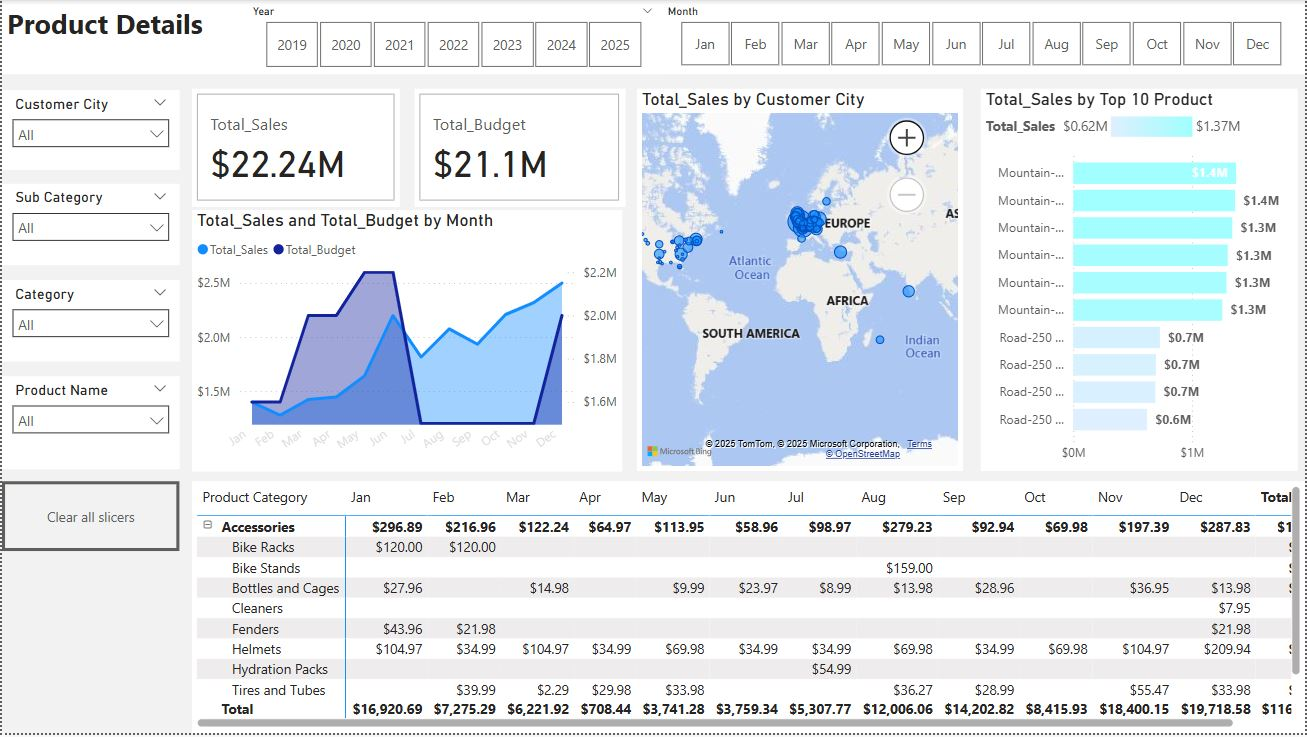

Layout of this report page (visuals, bound fields, positions):
{"tool":"powerbi","page":{"name":"Product Details","canvas":[1280,720],"ordinal":2},"visuals":[{"type":"textbox","box":[0,0,1280.3,72.8],"z":0},{"type":"slicer","fields":{"Values":["Dim_Customer.Customer City"]},"box":[-0.3,87.9,174.1,78.5],"z":1000},{"type":"slicer","fields":{"Values":["Dim_Product.Sub Category"]},"box":[-0.3,180.7,174.1,79.9],"z":2000},{"type":"slicer","fields":{"Values":["Dim_Product.Product Category"]},"box":[-0.3,274.9,174.1,79.9],"z":3000},{"type":"slicer","fields":{"Values":["Dim_Product.Product Name"]},"box":[0,368.8,174.1,91.3],"z":4000},{"type":"slicer","fields":{"Values":["Dim_Calendar.Year"]},"box":[232.7,0,418.2,72.8],"z":5000},{"type":"slicer","fields":{"Values":["Dim_Calendar.Month_Short"]},"box":[640.9,0,639.4,71.4],"z":6000},{"type":"lineChart","fields":{"Y":["Fact_InternetSales.Total_Sales"],"Y2":["Fact_Budget.Total_Budget"],"Category":["Dim_Calendar.Month_Short"]},"box":[187,205.5,422.5,256.9],"z":7000},{"type":"map","fields":{"Category":["Dim_Customer.Customer City"],"Size":["Fact_InternetSales.Total_Sales"]},"box":[623.7,87.1,319.7,375.4],"z":8000},{"type":"cardVisual","fields":{"Data":["Fact_InternetSales.Total_Sales"]},"box":[187,87.1,204.1,115.6],"z":9000},{"type":"cardVisual","fields":{"Data":["Fact_Budget.Total_Budget"]},"box":[405.4,87.1,207,115.6],"z":10000},{"type":"pivotTable","fields":{"Columns":["Dim_Calendar.Month_Short"],"Values":["Fact_InternetSales.Total_Sales"],"Rows":["Dim_Product.Product Category","Dim_Product.Sub Category"]},"box":[187,472.4,1093.3,246.9],"z":11000},{"type":"barChart","fields":{"Y":["Fact_InternetSales.Total_Sales"],"Category":["Dim_Product.Product Name"]},"box":[960.6,87.1,311.2,375.4],"z":12000},{"type":"actionButton","box":[0,472.4,174.1,68.5],"z":13000}]}

Visuals, with their boxes in screenshot pixels (x1, y1, x2, y2), scaled from the page's 1280x720 canvas onto the 1307x737 screenshot:
textbox: [x1=0, y1=0, x2=1306, y2=75]
slicer - Dim_Customer.Customer City: [x1=0, y1=90, x2=177, y2=170]
slicer - Dim_Product.Sub Category: [x1=0, y1=185, x2=177, y2=267]
slicer - Dim_Product.Product Category: [x1=0, y1=281, x2=177, y2=363]
slicer - Dim_Product.Product Name: [x1=0, y1=378, x2=178, y2=471]
slicer - Dim_Calendar.Year: [x1=238, y1=0, x2=665, y2=75]
slicer - Dim_Calendar.Month_Short: [x1=654, y1=0, x2=1306, y2=73]
lineChart - Fact_InternetSales.Total_Sales x Fact_Budget.Total_Budget: [x1=191, y1=210, x2=622, y2=473]
map - Dim_Customer.Customer City x Fact_InternetSales.Total_Sales: [x1=637, y1=89, x2=963, y2=473]
cardVisual - Fact_InternetSales.Total_Sales: [x1=191, y1=89, x2=399, y2=207]
cardVisual - Fact_Budget.Total_Budget: [x1=414, y1=89, x2=625, y2=207]
pivotTable - Dim_Calendar.Month_Short x Fact_InternetSales.Total_Sales: [x1=191, y1=484, x2=1306, y2=736]
barChart - Fact_InternetSales.Total_Sales x Dim_Product.Product Name: [x1=981, y1=89, x2=1299, y2=473]
actionButton: [x1=0, y1=484, x2=178, y2=554]
